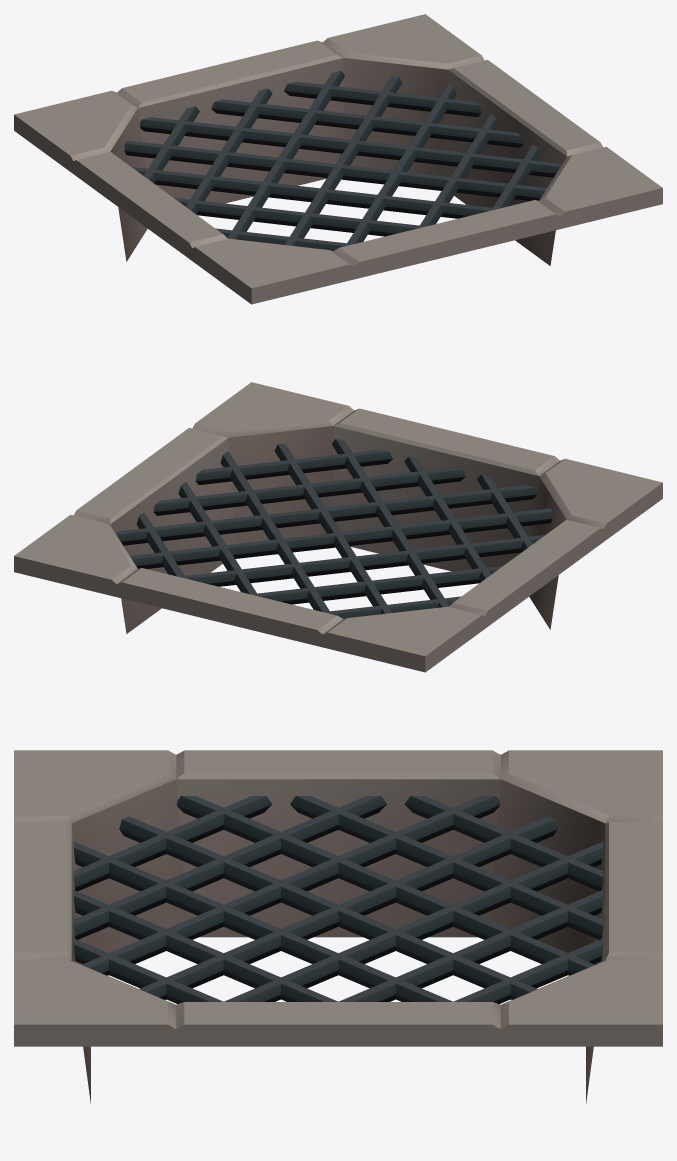
The model's file is floor-tile-big-grate-open-gltf.glb.
3 views of the same model, one above another, from view 1: azimuth 30°, elevation 25°; view 2: azimuth 150°, elevation 25°; view 3: azimuth 270°, elevation 25° (orthographic). The views are drawn at different scales.
Parts seen in each view (by area): view 1: floor_tile_big_grate_open; view 2: floor_tile_big_grate_open; view 3: floor_tile_big_grate_open.
Boxes of the visible parts, x1=… form: floor_tile_big_grate_open: x1=14, y1=14, x2=662, y2=304; floor_tile_big_grate_open: x1=14, y1=382, x2=662, y2=672; floor_tile_big_grate_open: x1=14, y1=750, x2=662, y2=1103.
Size of the model in its own units: 4 by 1.05 by 4.
Materials: 1 (1 with a texture image).
